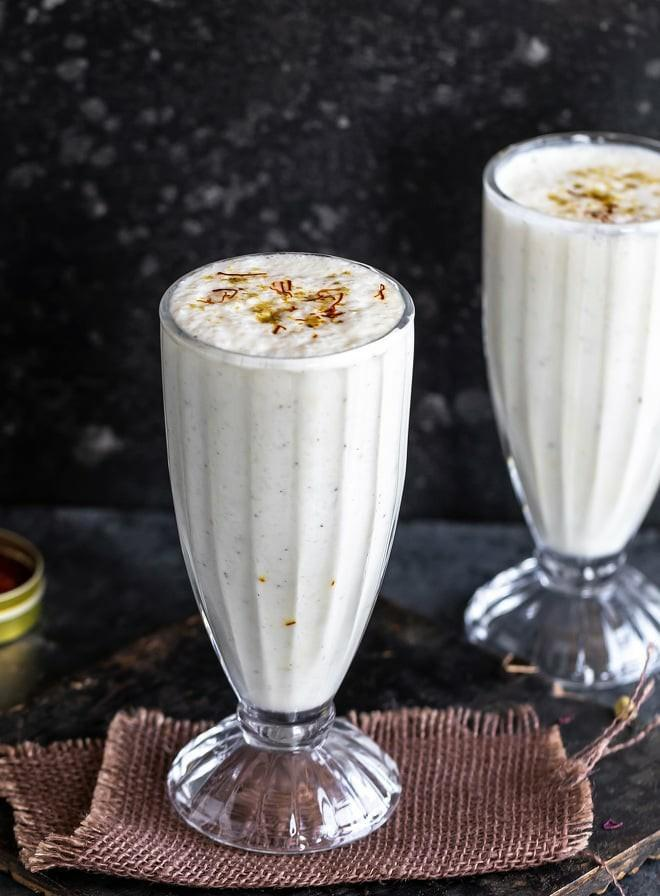Lassi: (168, 249, 420, 736), (488, 126, 660, 566)
